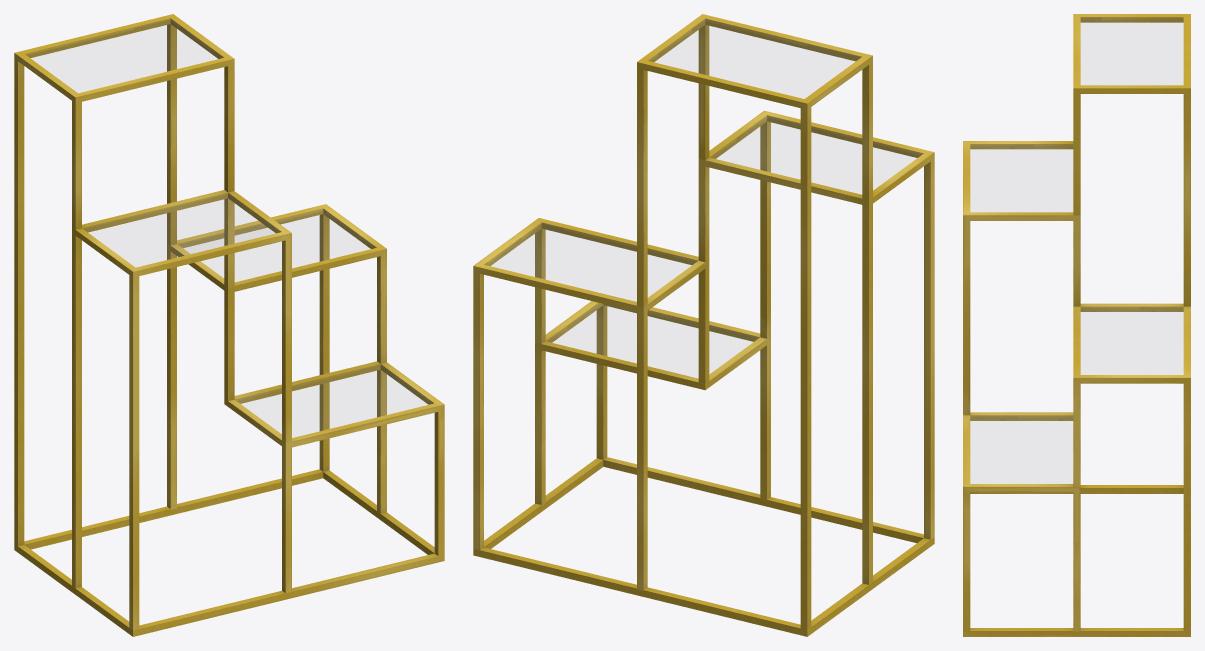
The model's file is Shelf01.fbx.
3 renders of one model, left to right at view 1: azimuth 30°, elevation 25°; view 2: azimuth 150°, elevation 25°; view 3: azimuth 270°, elevation 25°, orthographic. The views are drawn at different scales.
Visible parts, largest first — view 1: shelf01; view 2: shelf01; view 3: shelf01.
Part boxes in pixels (x1,y1,x2,y2): shelf01: [14, 14, 444, 636]; shelf01: [473, 14, 934, 636]; shelf01: [963, 14, 1190, 636].
Size of the model in its own units: 9.42 by 14.36 by 6.21.
Materials: 2 (1 with a texture image).
